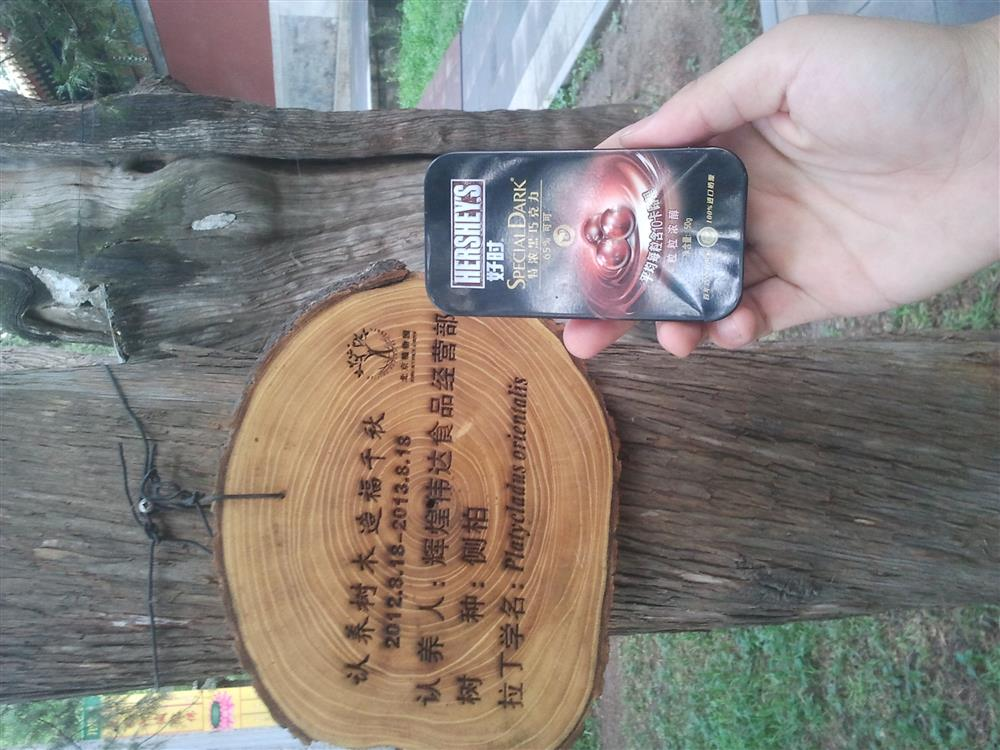hersheys: (424, 143, 745, 322)
